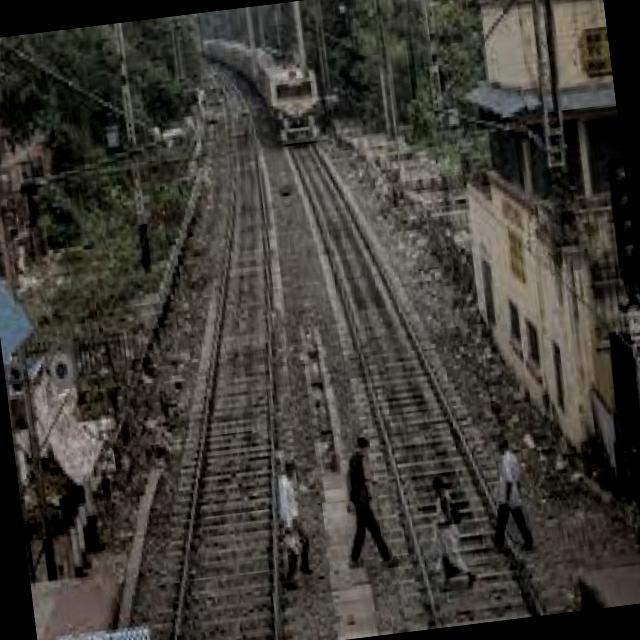Person: (330, 428, 400, 572), (420, 470, 477, 600), (477, 430, 534, 554), (266, 454, 314, 594)
